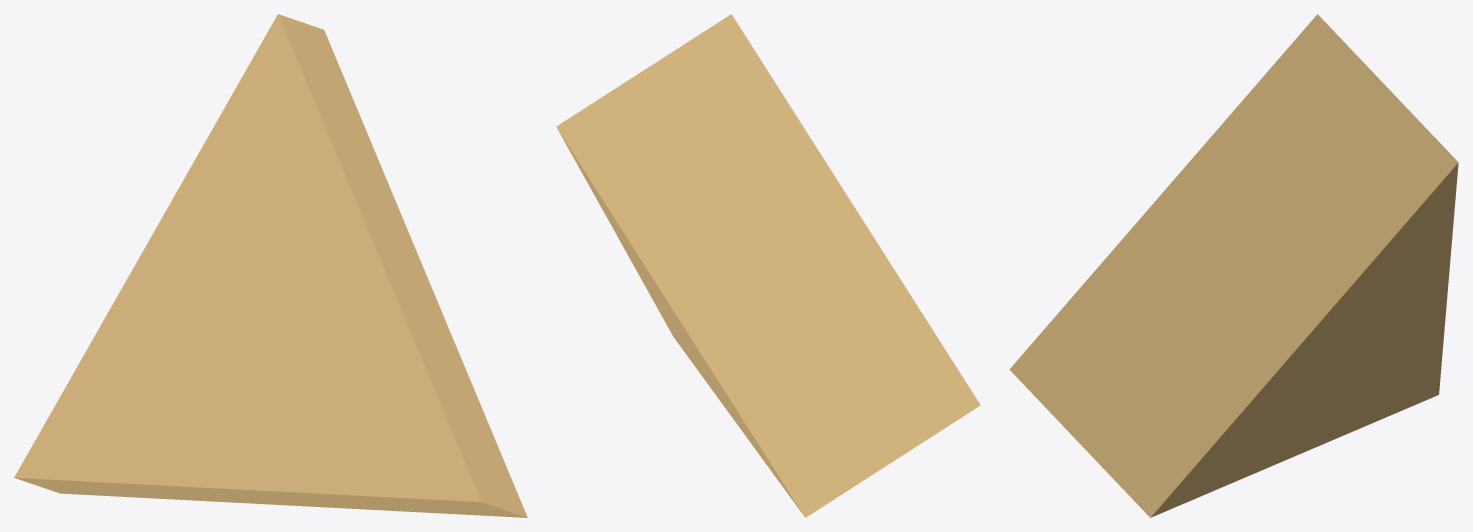
3 views of the same model, side by side, from view 1: azimuth 30°, elevation 25°; view 2: azimuth 150°, elevation 25°; view 3: azimuth 270°, elevation 25° (orthographic). The views are drawn at different scales.
Visible parts, largest first — view 1: Cone_4; view 2: Cone_4; view 3: Cone_4.
Boxes of the visible parts, x1,y1,x2,y2 form: Cone_4: (14,14,527,517); Cone_4: (556,14,980,517); Cone_4: (1009,14,1458,517).
Size of the model in its own units: 0.745 by 0.8081 by 0.7342.
